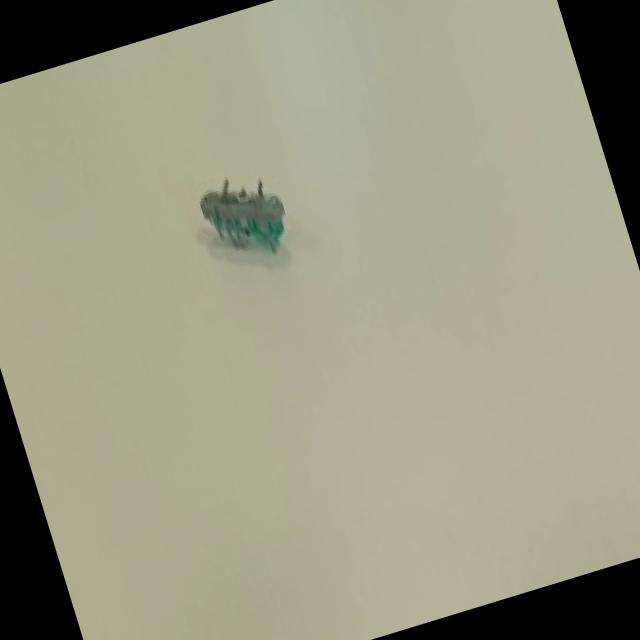5_NanoBug_GrisClaro: (148, 154, 322, 304)
